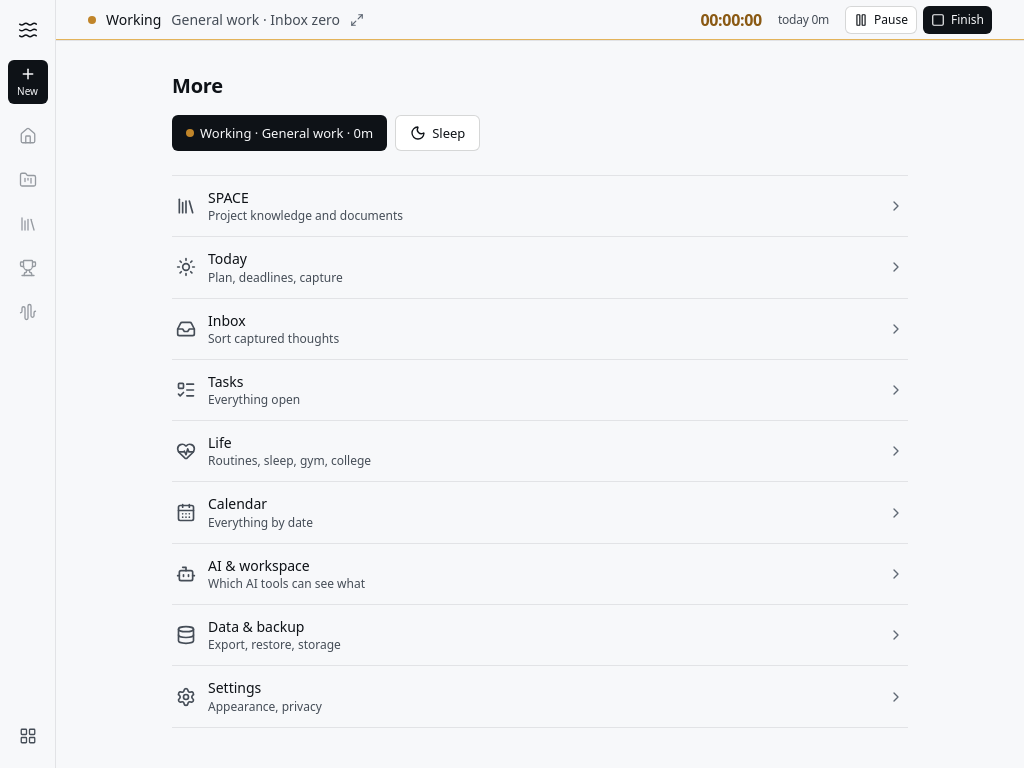
Test case: Work Mode (v2 PHASE 015) › folds into a compact bar to use LOWTIDE, and opens again from it
Expected: the heading "More" is shown, left=172, top=72, right=223, bottom=99
Click the button "Working · General work · 0m".
click(280, 133)  # box left=172, top=115, right=387, bottom=151
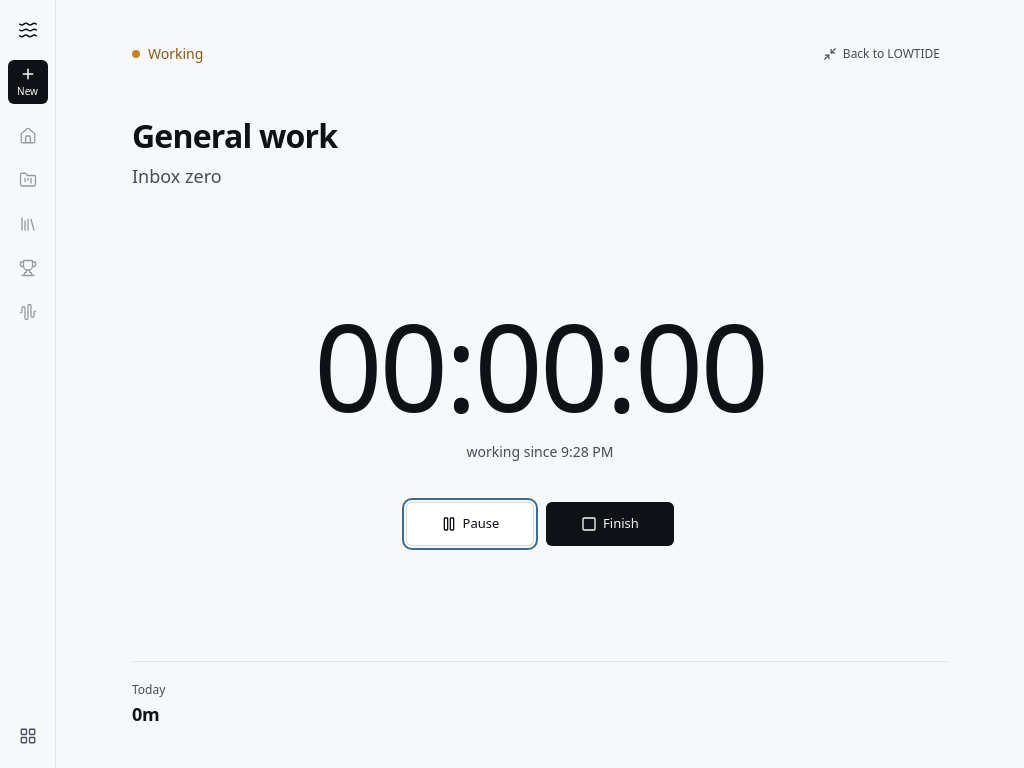
Click the button "Back to LOWTIDE".
click(881, 54)  # box left=815, top=40, right=948, bottom=68
(page scrolled)
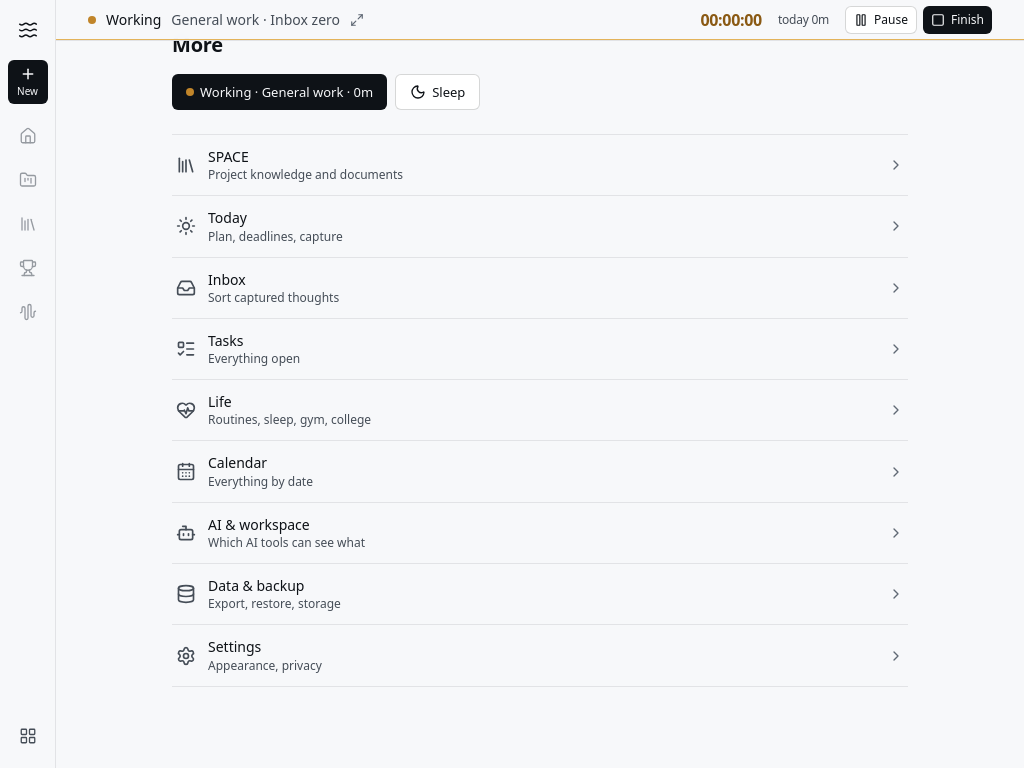
Result: the element named "Work session" shows "General work · Inbox zero" at left=56, top=0, right=1023, bottom=41
Click the button with aria-label "Open Work Mode".
click(134, 20)  # box left=88, top=6, right=684, bottom=34
(page scrolled)
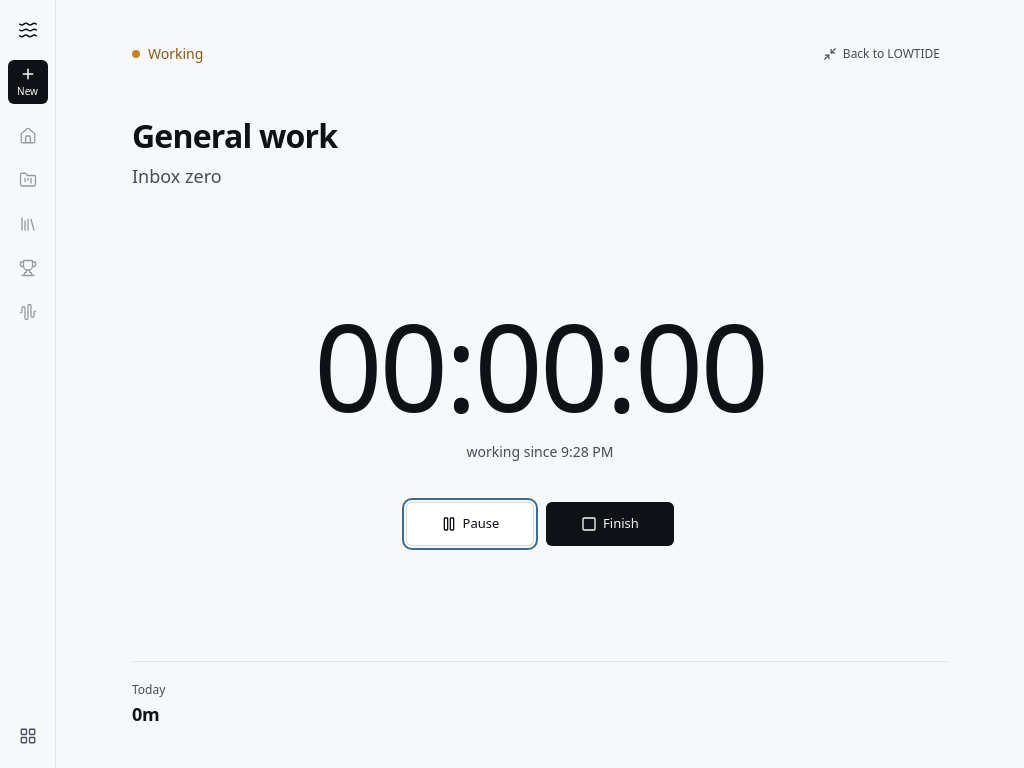
Result: the element named "Work Mode" is shown
